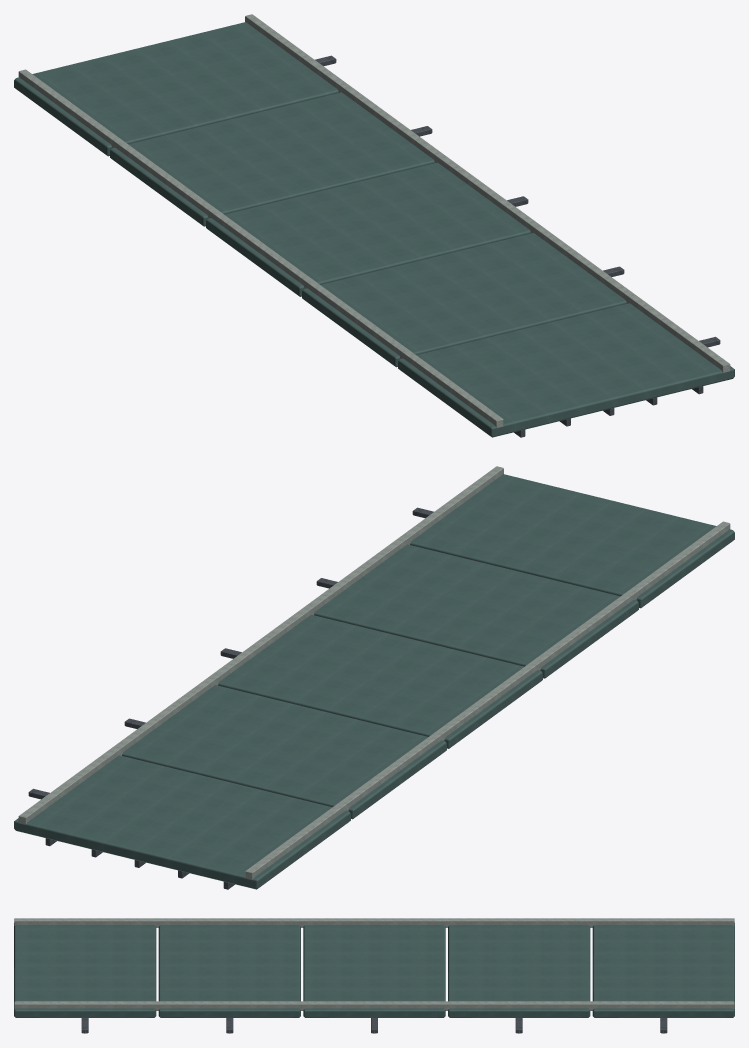
Rendered from shutter_starboard.fbx.
3 views of the same model, one above another, from view 1: azimuth 30°, elevation 25°; view 2: azimuth 150°, elevation 25°; view 3: azimuth 270°, elevation 25° (orthographic). The views are drawn at different scales.
Visible parts, largest first — view 1: SM_anchor_shutter_starboard; view 2: SM_anchor_shutter_starboard; view 3: SM_anchor_shutter_starboard.
Part boxes in pixels (x1=…): SM_anchor_shutter_starboard: x1=14, y1=14, x2=734, y2=437; SM_anchor_shutter_starboard: x1=14, y1=466, x2=734, y2=889; SM_anchor_shutter_starboard: x1=14, y1=918, x2=734, y2=1033.
Bounding box in the file's own units: 4.19 × 0.359 × 12.66.
Materials: 5 (4 with a texture image).
